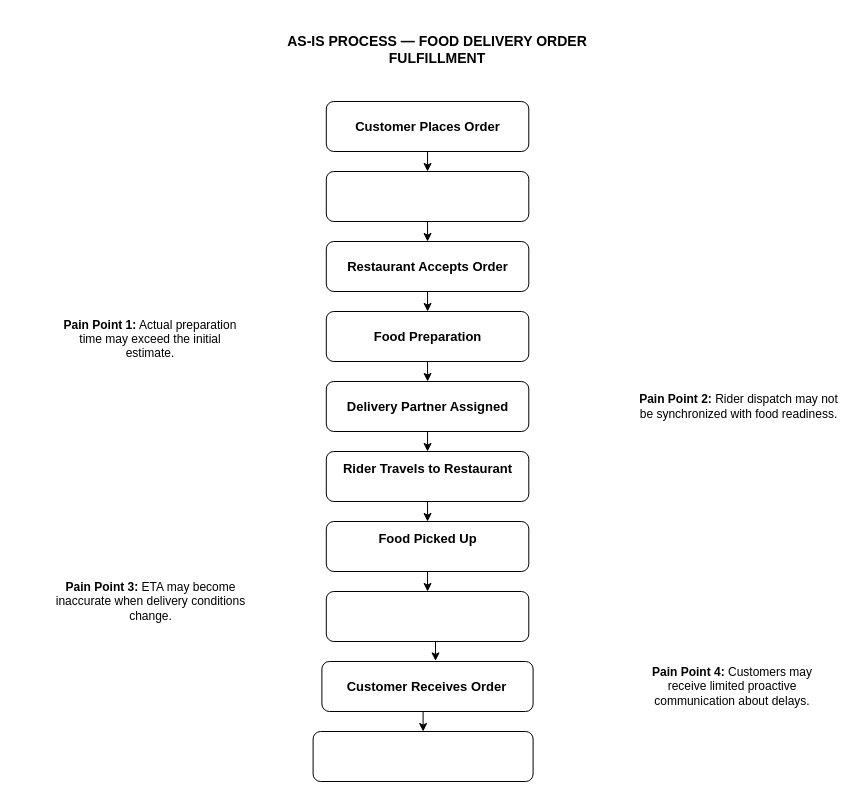
The diagram is 857 pixels wide and 809 high, and some of its shapes have lost their labels. Here are the shapes that lost their labels. From the top down, the box of each, then its label:
(325, 170, 529, 222): Restaurant Receives Order
(325, 590, 529, 642): Rider Travels to Customer
(312, 730, 533, 782): Order Completed
